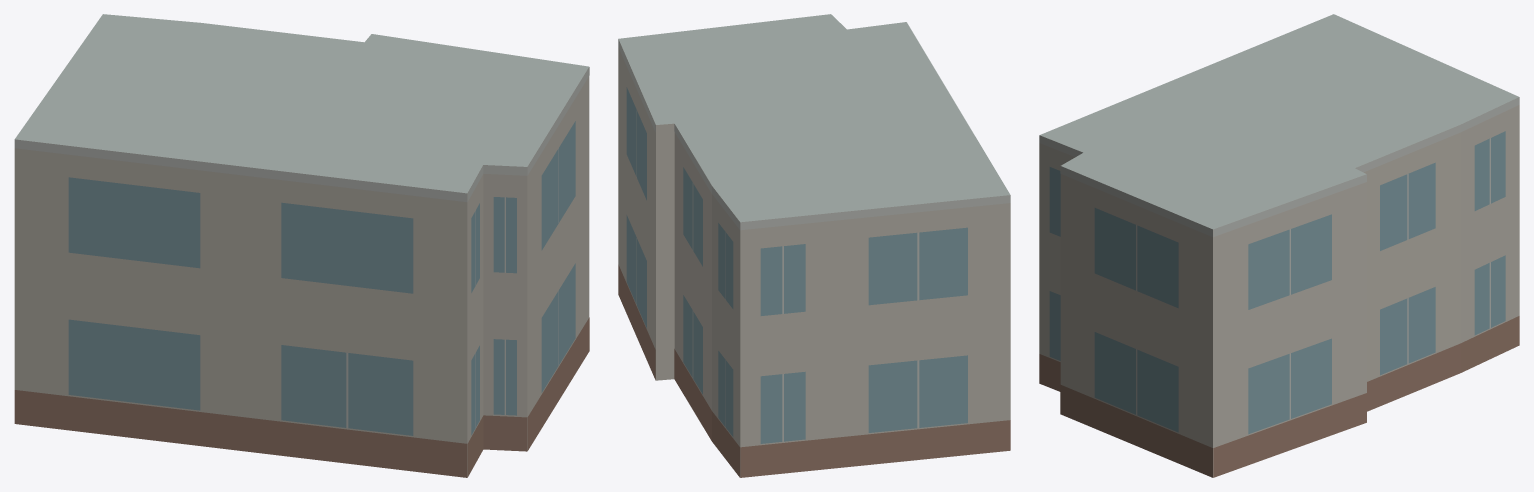
Rendered from survey-upis-33027556.glb.
The picture shows the model from 3 angles, left to right: view 1: azimuth 30°, elevation 25°; view 2: azimuth 150°, elevation 25°; view 3: azimuth 270°, elevation 25°; orthographic projection. The views are drawn at different scales.
Parts seen in each view (by area): view 1: survey-upis-33027556.tmp; view 2: survey-upis-33027556.tmp; view 3: survey-upis-33027556.tmp.
Boxes of the visible parts, <box> form: survey-upis-33027556.tmp: <box>14,14,589,477</box>; survey-upis-33027556.tmp: <box>618,14,1010,477</box>; survey-upis-33027556.tmp: <box>1039,14,1519,477</box>.
Bounding box in the file's own units: 14.52 × 7.8 × 13.67.
